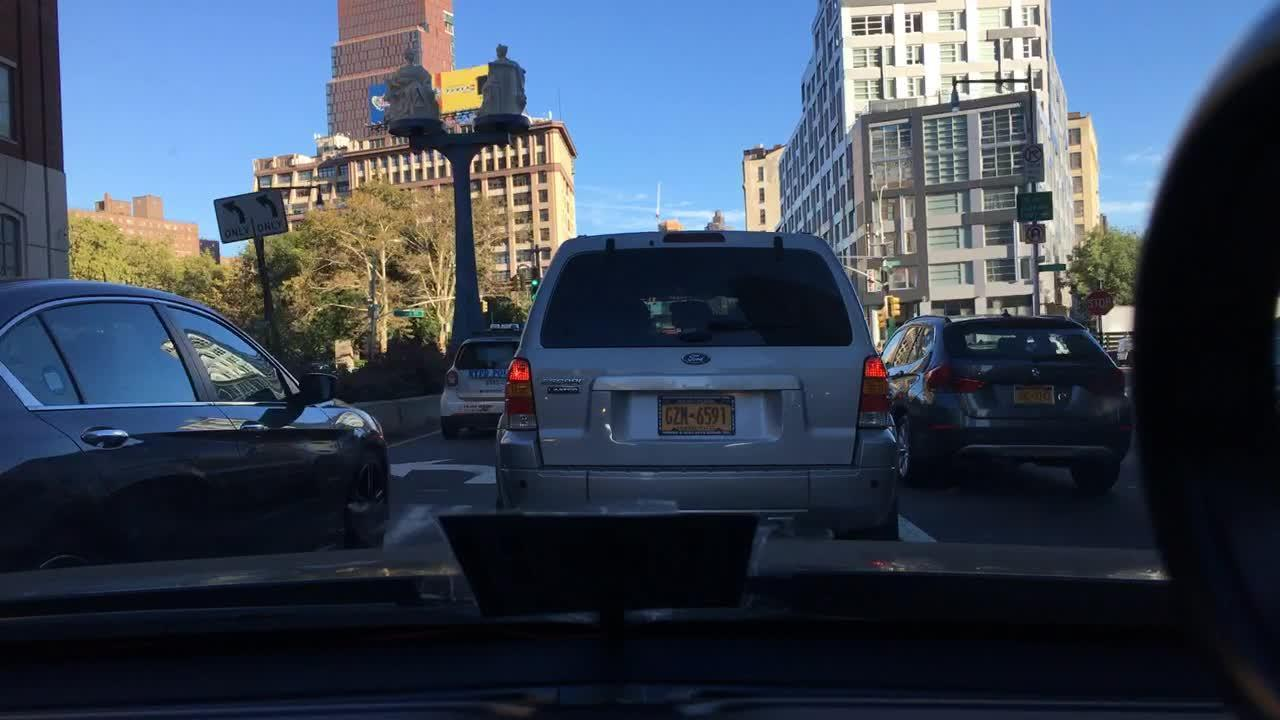ford: (680, 350, 712, 367)
